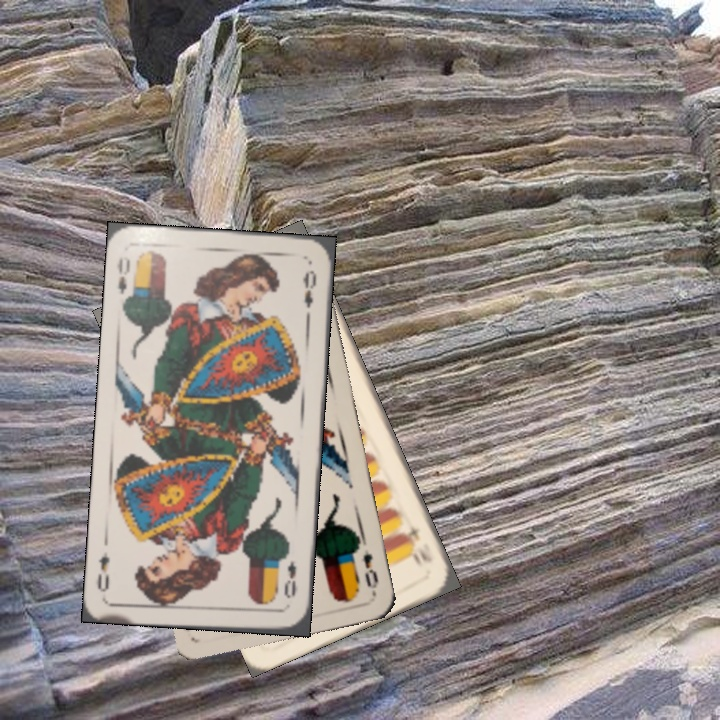E10: (399, 521, 436, 570)
EO: (359, 545, 381, 597), (113, 255, 133, 297), (280, 557, 299, 601)
